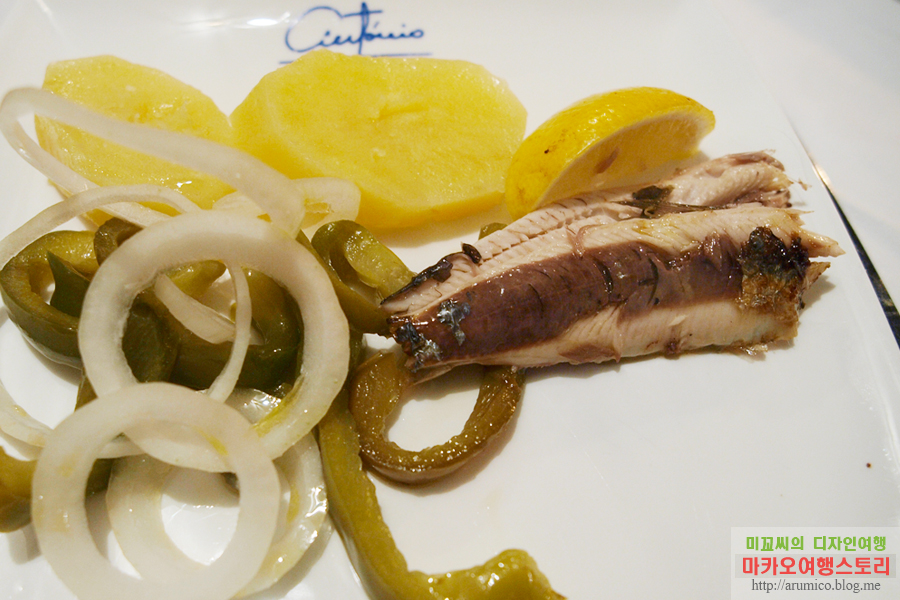boiled potatoes: (54, 50, 513, 226)
